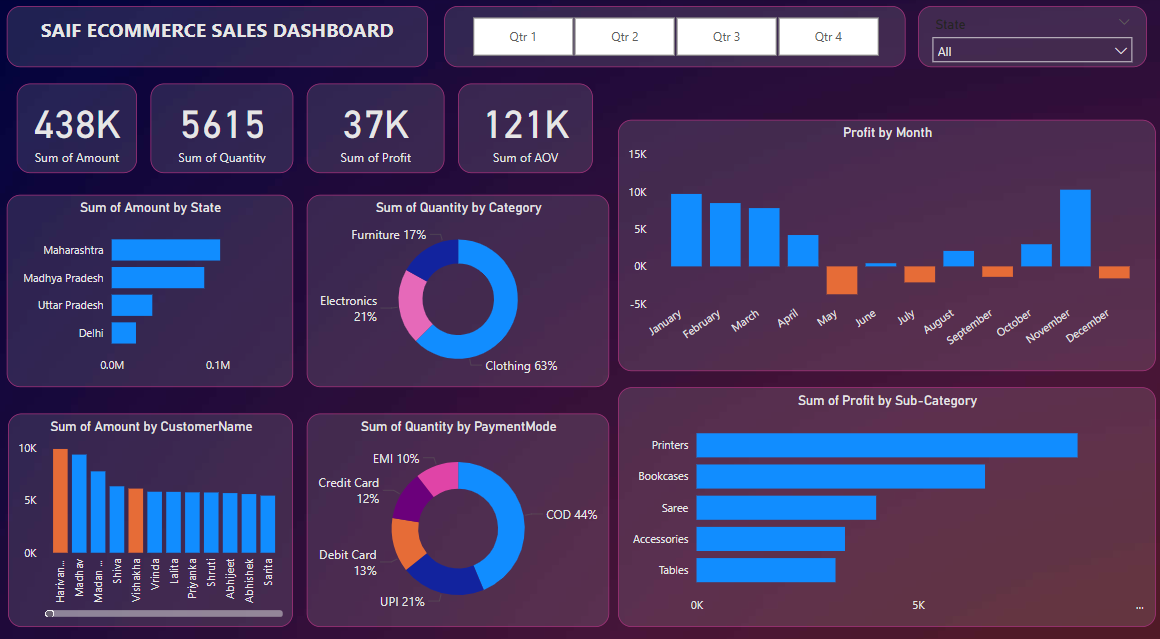

The dashboard page shown, as its layout file describes it:
{"tool":"powerbi","page":{"name":"Page 1","canvas":[1280,720],"ordinal":0},"visuals":[{"type":"textbox","box":[9.6,11,462.4,67.2],"z":0},{"type":"columnChart","title":"Profit by Month","fields":{"Y":["Sum(Details.Profit)"],"Category":["Orders.Order Date.Variation.Date Hierarchy.Month"]},"box":[680.6,96.1,590.1,301.9],"z":1000},{"type":"barChart","fields":{"Category":["Details.Sub-Category"],"Y":["Sum(Details.Profit)"]},"box":[680.6,418.5,590.1,274.4],"z":2000},{"type":"donutChart","fields":{"Category":["Details.Category"],"Y":["Sum(Details.Quantity)"]},"box":[338.9,218.2,332.1,211.3],"z":3000},{"type":"donutChart","fields":{"Y":["Sum(Details.Quantity)"],"Category":["Details.PaymentMode"]},"box":[338.9,458.3,332.1,234.6],"z":4000},{"type":"card","fields":{"Values":["Sum(Details.Amount)"]},"box":[20.6,96.1,131.7,98.8],"z":5000},{"type":"card","fields":{"Values":["Sum(Details.Quantity)"]},"box":[167.4,96.1,156.4,98.8],"z":6000},{"type":"card","fields":{"Values":["Sum(Details.Profit)"]},"box":[338.9,96.1,150.9,98.8],"z":7000},{"type":"card","fields":{"Values":["Sum(Details.AOV)"]},"box":[505,96.1,148.2,98.8],"z":8000},{"type":"barChart","fields":{"Category":["Orders.State"],"Y":["Sum(Details.Amount)"]},"box":[9.6,218.2,314.2,211.3],"z":9000},{"type":"columnChart","fields":{"Category":["Orders.CustomerName"],"Y":["Sum(Details.Amount)"]},"box":[11,458.3,312.9,234.6],"z":10000},{"type":"slicer","fields":{"Values":["Orders.Order Date.Variation.Date Hierarchy.Quarter"]},"box":[489.9,11,506.3,67.2],"z":11000},{"type":"slicer","fields":{"Values":["Orders.State"]},"box":[1010,11,251.1,67.2],"z":12000}]}

Visuals, with their boxes in screenshot pixels (x1, y1, x2, y2), scaled from the page's 1280x720 canvas onto the 1160x639 screenshot:
textbox: box=[9, 10, 428, 69]
"Profit by Month" columnChart: box=[617, 85, 1152, 353]
barChart - Details.Sub-Category x Sum(Details.Profit): box=[617, 371, 1152, 615]
donutChart - Details.Category x Sum(Details.Quantity): box=[307, 194, 608, 381]
donutChart - Sum(Details.Quantity) x Details.PaymentMode: box=[307, 407, 608, 615]
card - Sum(Details.Amount): box=[19, 85, 138, 173]
card - Sum(Details.Quantity): box=[152, 85, 293, 173]
card - Sum(Details.Profit): box=[307, 85, 444, 173]
card - Sum(Details.AOV): box=[458, 85, 592, 173]
barChart - Orders.State x Sum(Details.Amount): box=[9, 194, 293, 381]
columnChart - Orders.CustomerName x Sum(Details.Amount): box=[10, 407, 294, 615]
slicer - Orders.Order Date.Variation.Date Hierarchy.Quarter: box=[444, 10, 903, 69]
slicer - Orders.State: box=[915, 10, 1143, 69]
